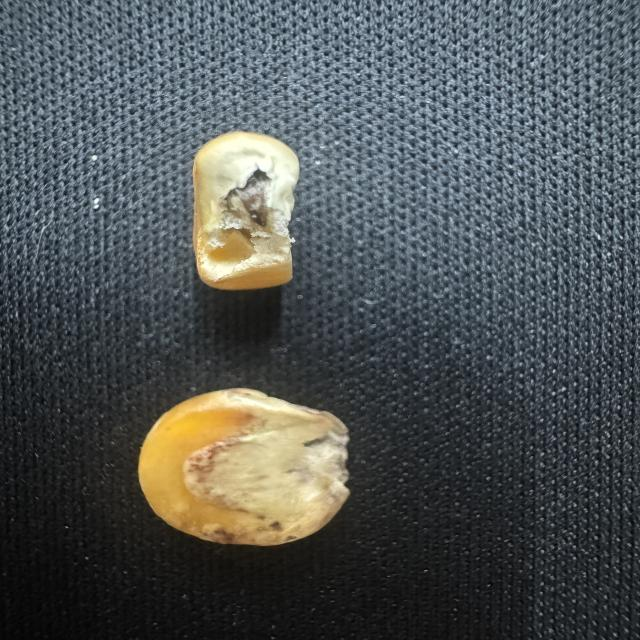Bad-Seed: (123, 383, 355, 551), (163, 116, 323, 308)
